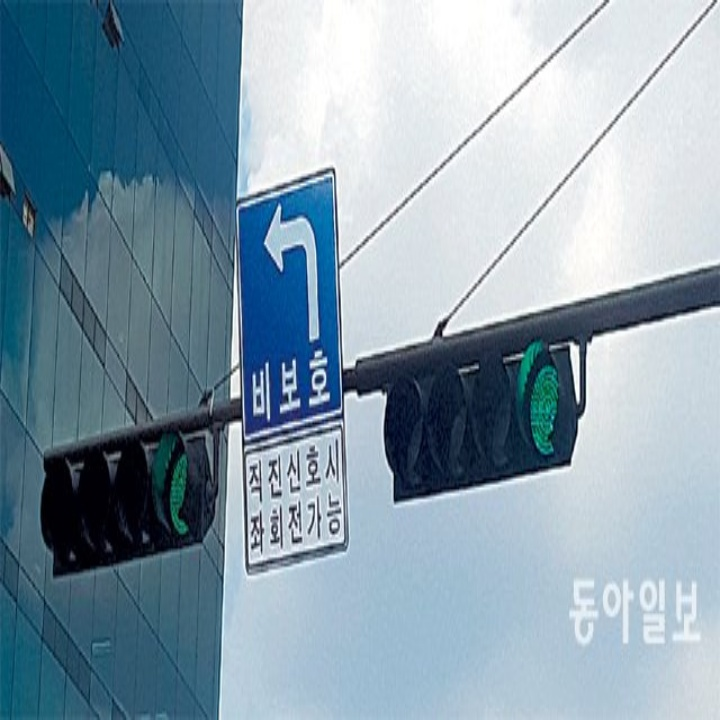left: (256, 198, 328, 347)
